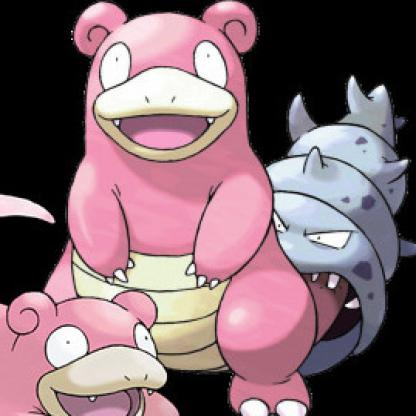Slowbro: (9, 1, 415, 357)
